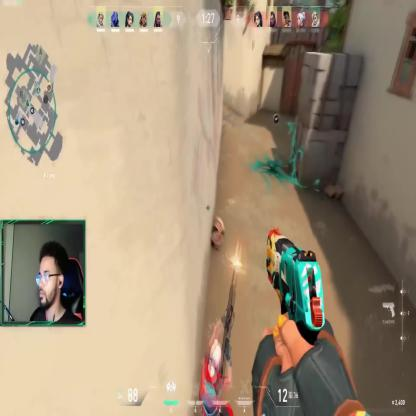enemy: (195, 323, 236, 416)
enemy_head: (210, 342, 221, 372)
